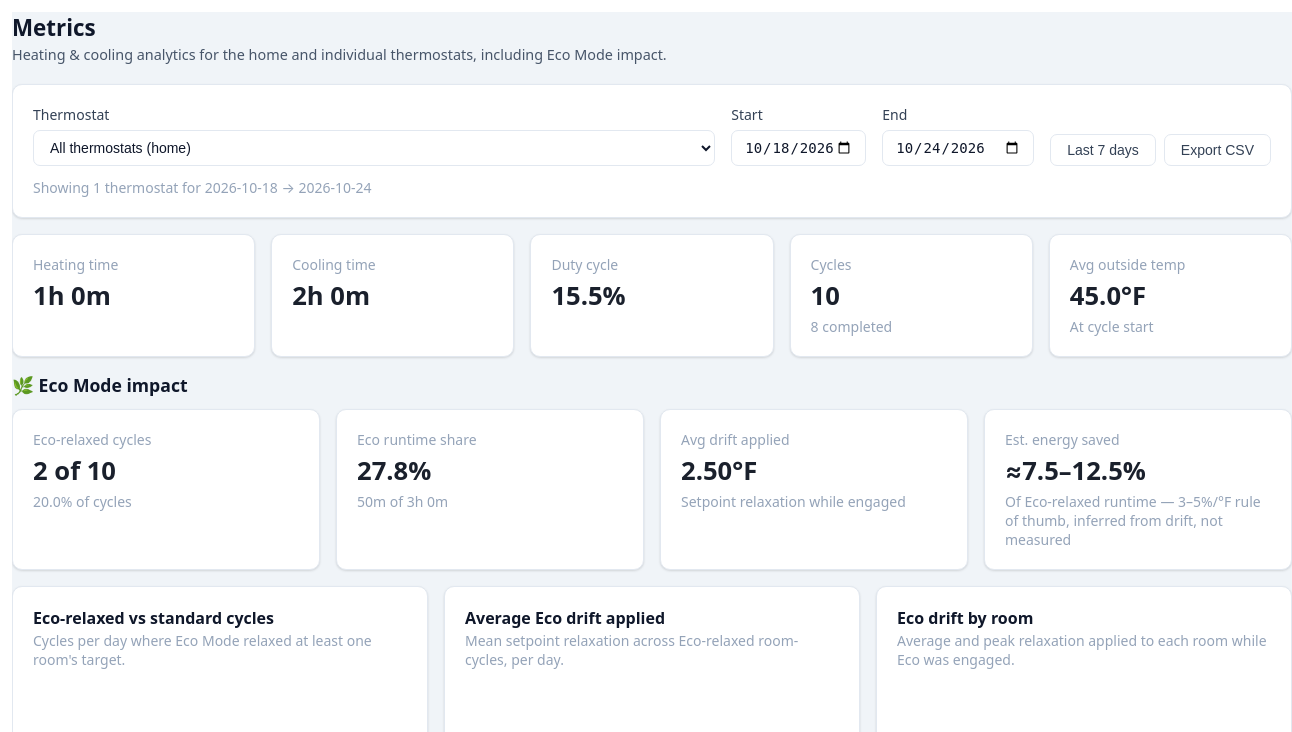
Test case: thermostat labelling › falls back to the entity id in the option and the subtitle when a thermostat is unnamed
Select "climate.unnamed" in the dropdown showing "All thermostats" at (374, 148), box [33, 130, 715, 166]
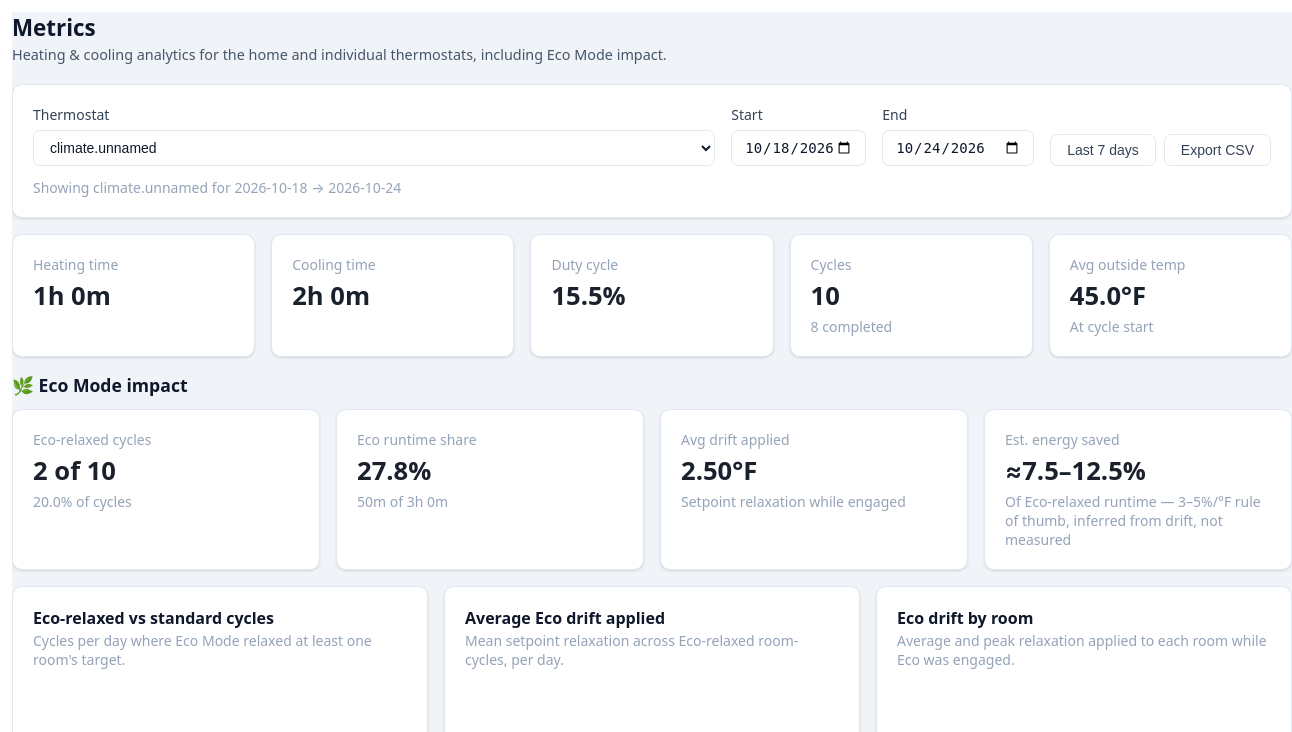
Expected: the text "Showing climate.unnamed for 2026-10-18 → 2026-10-24" is shown, [33, 178, 401, 197]
